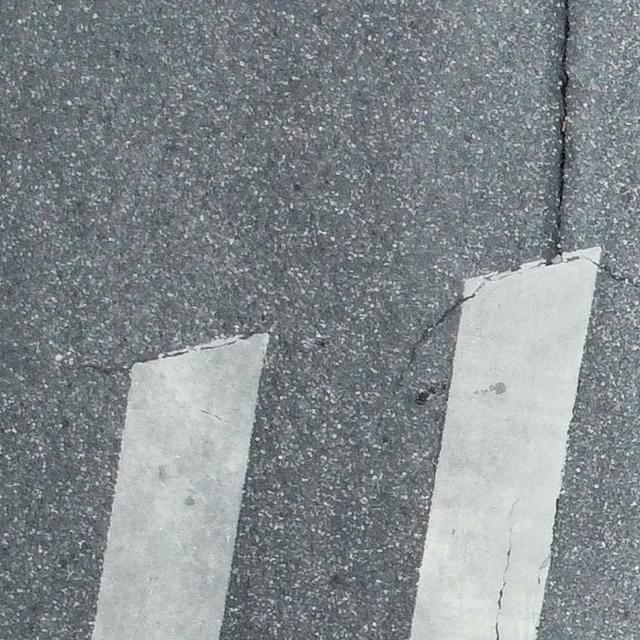LongitudinalCrack: (544, 1, 574, 268)
